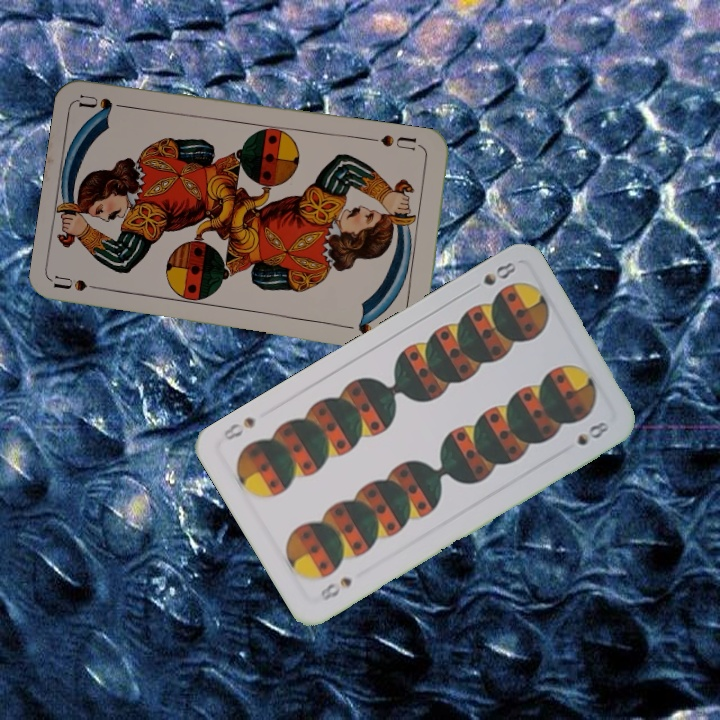S8: (464, 256, 519, 295), (316, 573, 355, 604)
SU: (52, 272, 112, 294), (377, 131, 426, 153)
